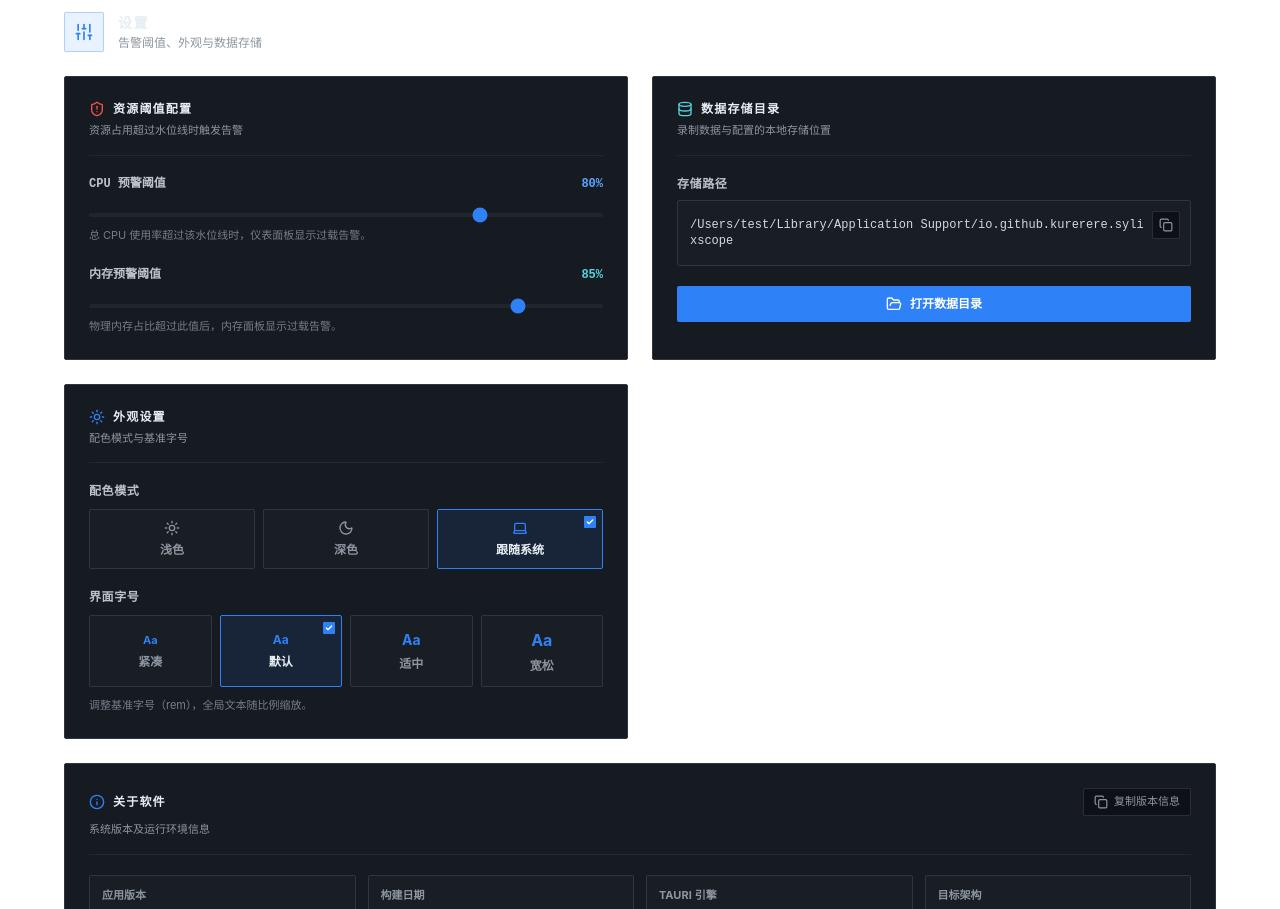
Test case: SettingsView Component › shows error feedback when openDataDir fails
Step 1. Click the button "打开数据目录" → (934, 304), box [677,286,1191,322]
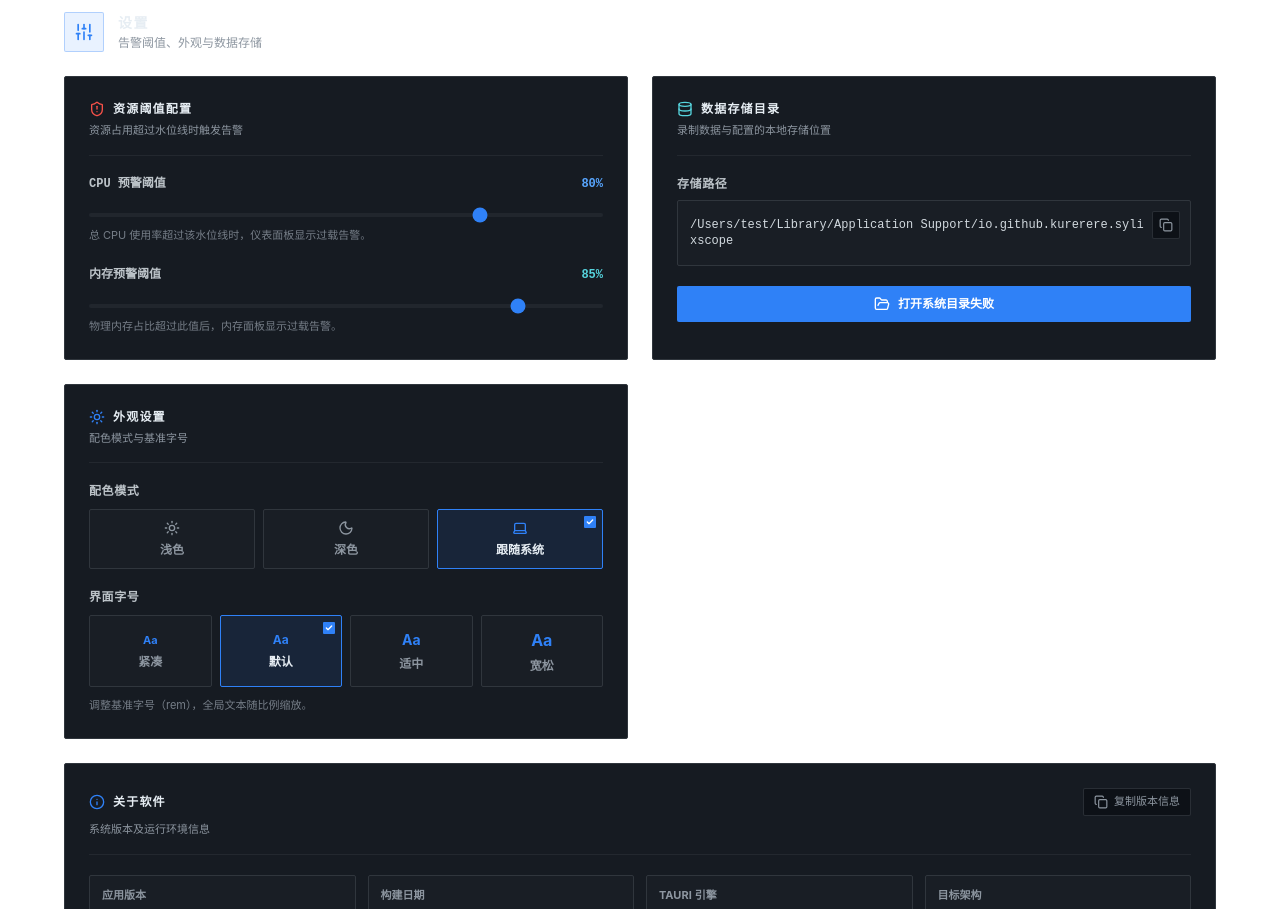
Expected: the text "打开系统目录失败" is shown, [898,296,994,312]
